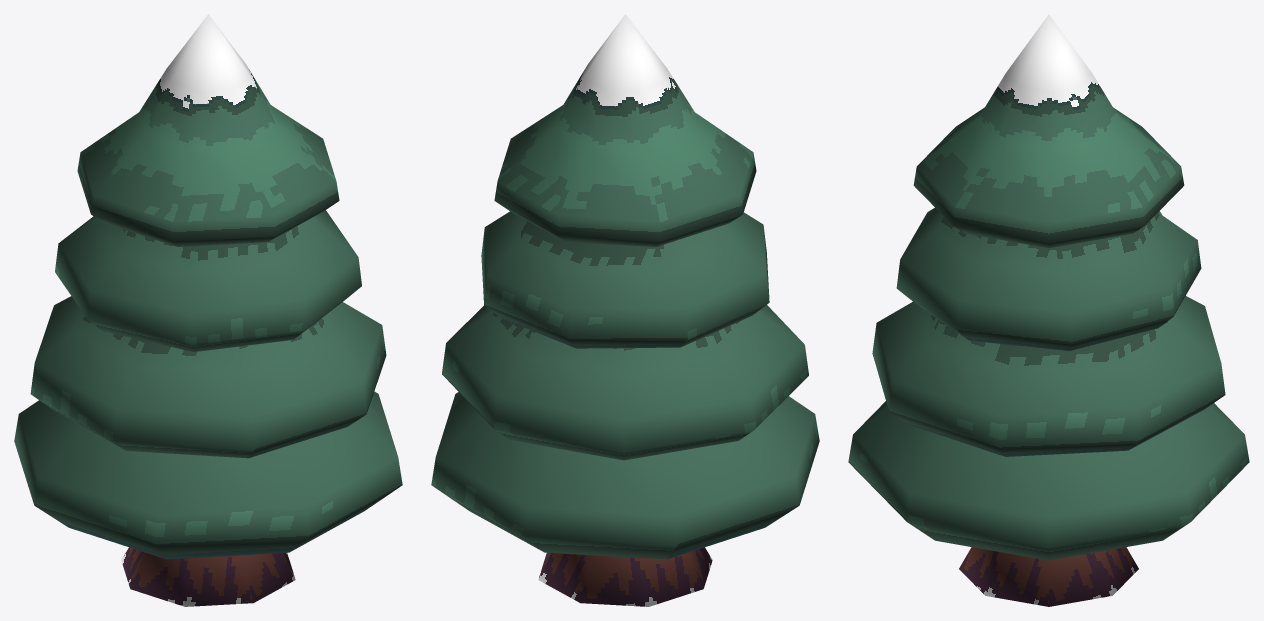
Rendered from tree1.glb.
3 renders of one model, left to right at view 1: azimuth 30°, elevation 25°; view 2: azimuth 150°, elevation 25°; view 3: azimuth 270°, elevation 25°, orthographic.
Parts seen in each view (by area): view 1: Cylinder; view 2: Cylinder; view 3: Cylinder.
Boxes of the visible parts, box(x1,y1,x2,y2) form: Cylinder: box(14, 14, 402, 606); Cylinder: box(431, 14, 819, 606); Cylinder: box(848, 14, 1249, 606).
Size of the model in its own units: 121 by 185 by 121.
1 material, 1 textured.
